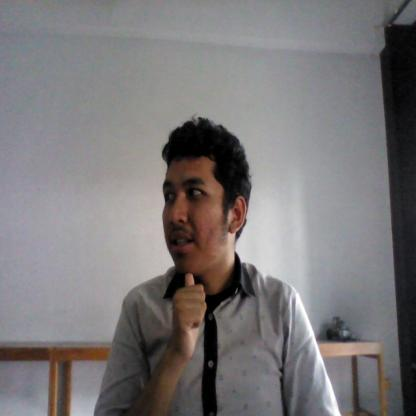Siapa: (168, 268, 212, 360)
